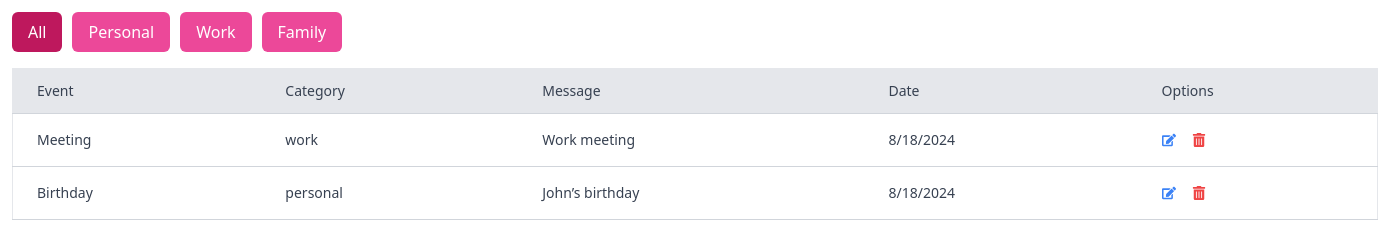
filters events by selected category
Expected: the text "Meeting" is shown, [12, 114, 261, 166]
Expected: the text "Birthday" is shown, [12, 166, 261, 220]
# Click to filter by 'personal'
Click the button "Personal" at (121,32), box [72, 12, 170, 52]
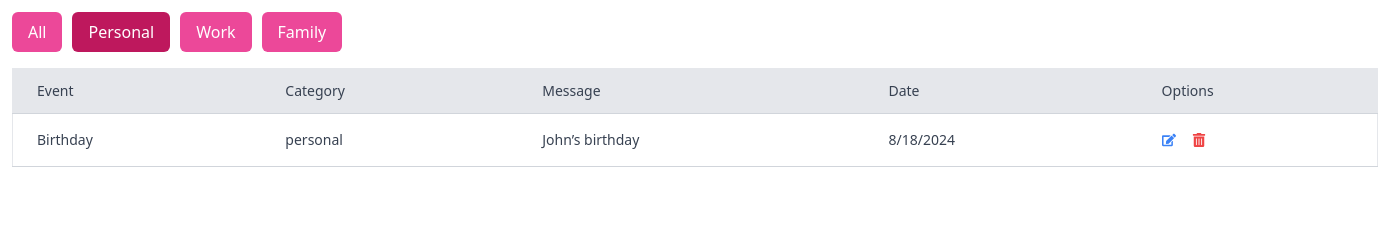
Expected: the text "Birthday" is shown, [12, 114, 261, 166]
Result: the text "Meeting" is gone
# Click to filter by 'work'
Click the button "Work" at (216,32), box [180, 12, 252, 52]
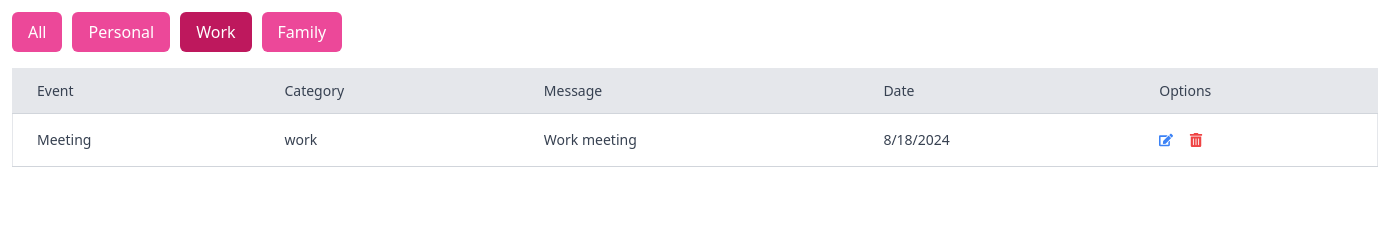
Result: the text "Meeting" is shown at [12, 114, 260, 166]
Result: the text "Birthday" is gone
